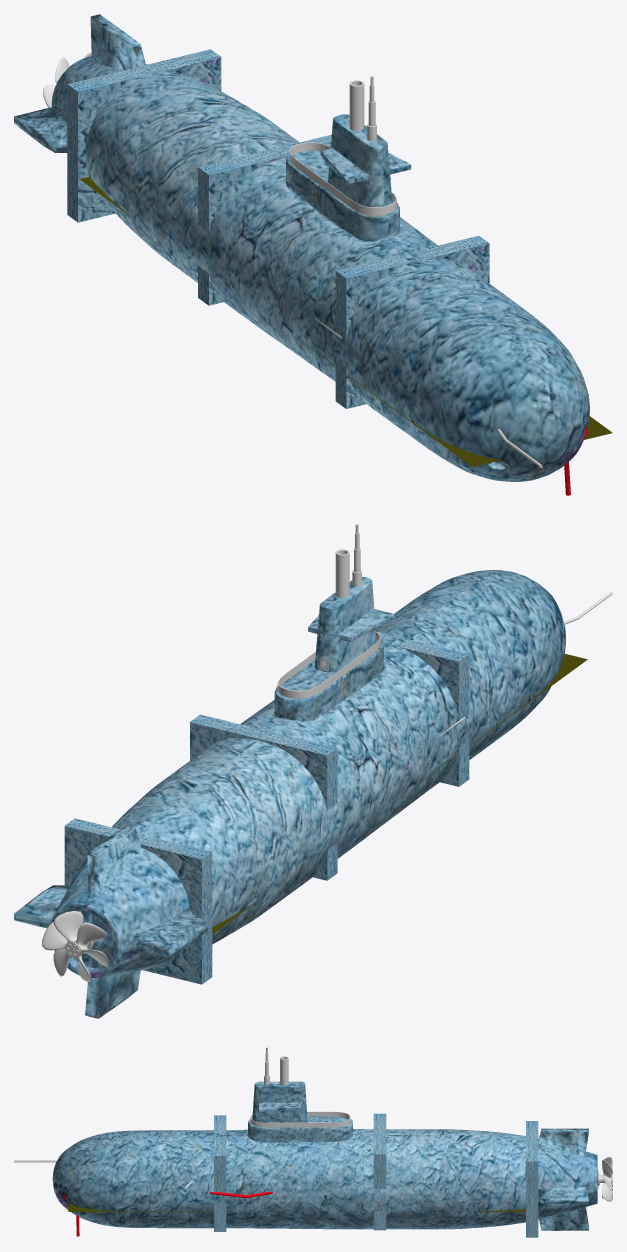
File: SUBMARINE.fbx
3 renders of one model, top to bottom at view 1: azimuth 30°, elevation 25°; view 2: azimuth 150°, elevation 25°; view 3: azimuth 270°, elevation 25°, orthographic. The views are drawn at different scales.
Visible parts, largest first — view 1: 02_low, Walls 1, Walls 3, Walls 2, 03_low, Floor, 05_low; view 2: 02_low, Walls 1, Walls 2, Walls 3, 10_low, 03_low, Floor, 05_low; view 3: 02_low, Walls 1, Walls 3, Walls 2, 03_low, 10_low, Floor, Cube.012.
Part boxes in pixels (left/top/right/bottom): 02_low: left=14, top=14, right=589, bottom=481; Walls 1: left=67, top=49, right=221, bottom=222; Walls 3: left=335, top=235, right=489, bottom=408; Walls 2: left=198, top=134, right=331, bottom=305; 03_low: left=289, top=142, right=396, bottom=215; Floor: left=79, top=177, right=612, bottom=466; 05_low: left=349, top=80, right=364, bottom=131; 02_low: left=14, top=570, right=565, bottom=1018; Walls 1: left=64, top=818, right=212, bottom=984; Walls 2: left=190, top=714, right=337, bottom=880; Walls 3: left=377, top=631, right=469, bottom=786; 10_low: left=42, top=911, right=108, bottom=981; 03_low: left=277, top=631, right=380, bottom=698; Floor: left=212, top=654, right=587, bottom=933; 05_low: left=335, top=549, right=349, bottom=598; 02_low: left=52, top=1081, right=598, bottom=1230; Walls 1: left=526, top=1121, right=538, bottom=1237; Walls 3: left=214, top=1115, right=226, bottom=1231; Walls 2: left=373, top=1113, right=386, bottom=1230; 03_low: left=250, top=1111, right=350, bottom=1127; 10_low: left=602, top=1157, right=612, bottom=1201; Floor: left=68, top=1204, right=525, bottom=1211; Cube.012: left=62, top=1192, right=272, bottom=1236.
Size of the model in its own units: 368 by 667 by 2003.
